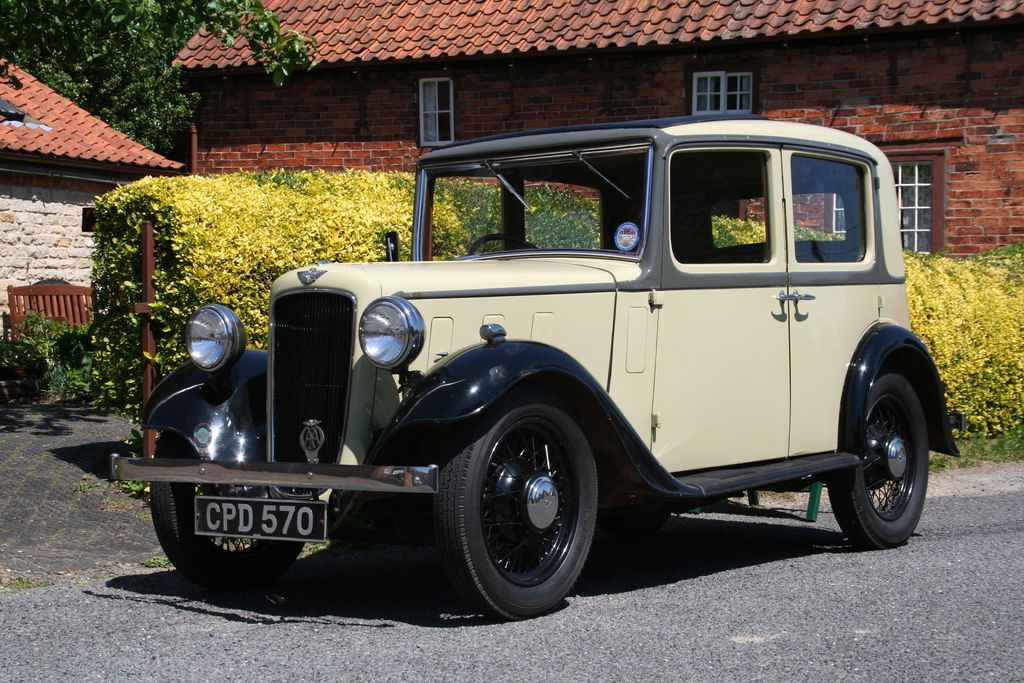Car: (111, 112, 959, 621)
